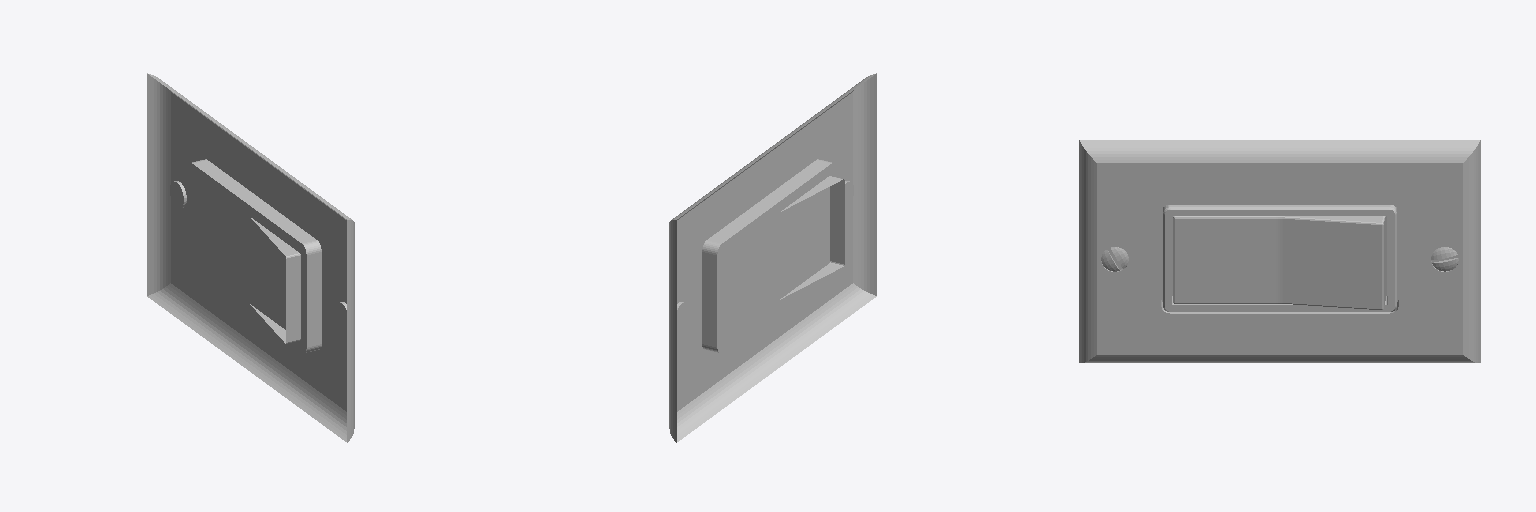
The model's file is light_switch (1).obj.
3 renders of one model, left to right at view 1: azimuth 30°, elevation 25°; view 2: azimuth 150°, elevation 25°; view 3: azimuth 270°, elevation 25°, orthographic.
Visible parts, largest first — view 1: Object.2, Object.5; view 2: Object.2, Object.5; view 3: Object.2, Object.5, Object.1, Object.3, Object.4.
Part boxes in pixels (x1,y1,x2,y2): Object.2: (147,73,354,442); Object.5: (250,218,300,343); Object.2: (669,73,876,442); Object.5: (780,176,844,299); Object.2: (1079,140,1480,362); Object.5: (1173,216,1386,309); Object.1: (1163,205,1396,311); Object.3: (1431,247,1458,271); Object.4: (1101,247,1128,271).
Bounding box in the file's own units: 15.27 × 70 × 114.